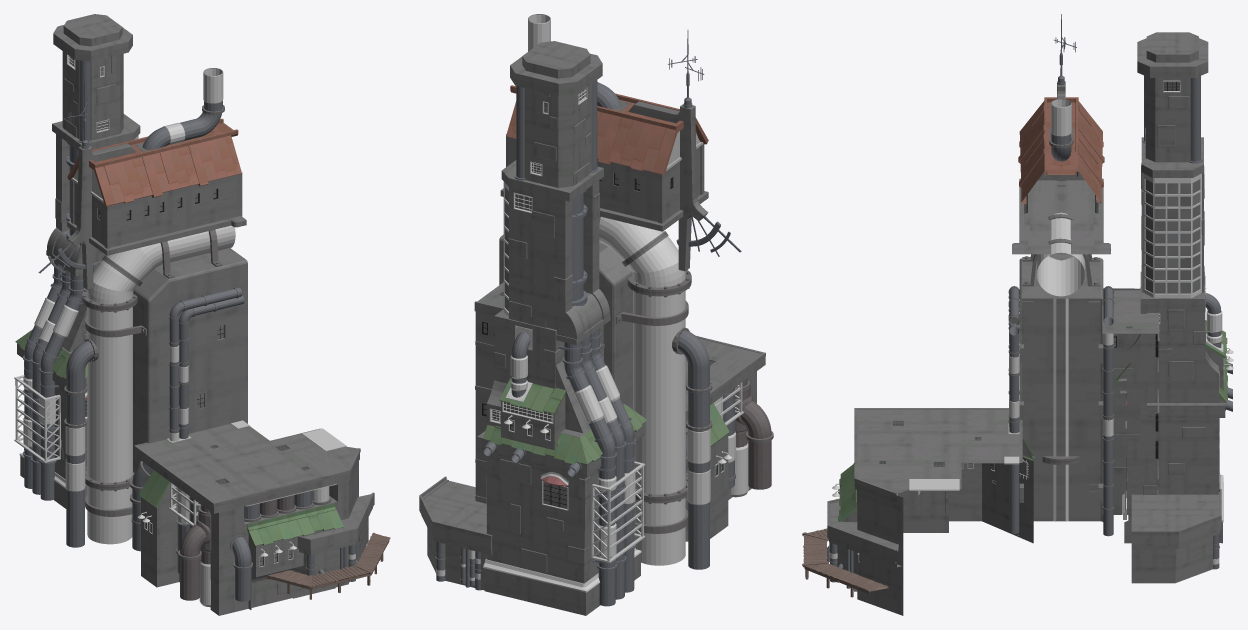
Rendered from AreaG_Building_Aa.fbx.
3 views of the same model, side by side, from view 1: azimuth 30°, elevation 25°; view 2: azimuth 150°, elevation 25°; view 3: azimuth 270°, elevation 25° (orthographic). The views are drawn at different scales.
Parts seen in each view (by area): view 1: SM_ENV_AMVLLG02_AreaG_Building_Aa.mo; view 2: SM_ENV_AMVLLG02_AreaG_Building_Aa.mo; view 3: SM_ENV_AMVLLG02_AreaG_Building_Aa.mo.
Part boxes in pixels (box(x1,y1,x2,y2)): SM_ENV_AMVLLG02_AreaG_Building_Aa.mo: box(14, 14, 390, 615); SM_ENV_AMVLLG02_AreaG_Building_Aa.mo: box(419, 14, 773, 615); SM_ENV_AMVLLG02_AreaG_Building_Aa.mo: box(802, 14, 1233, 615).
Size of the model in its own units: 3062 by 5339 by 4158.
